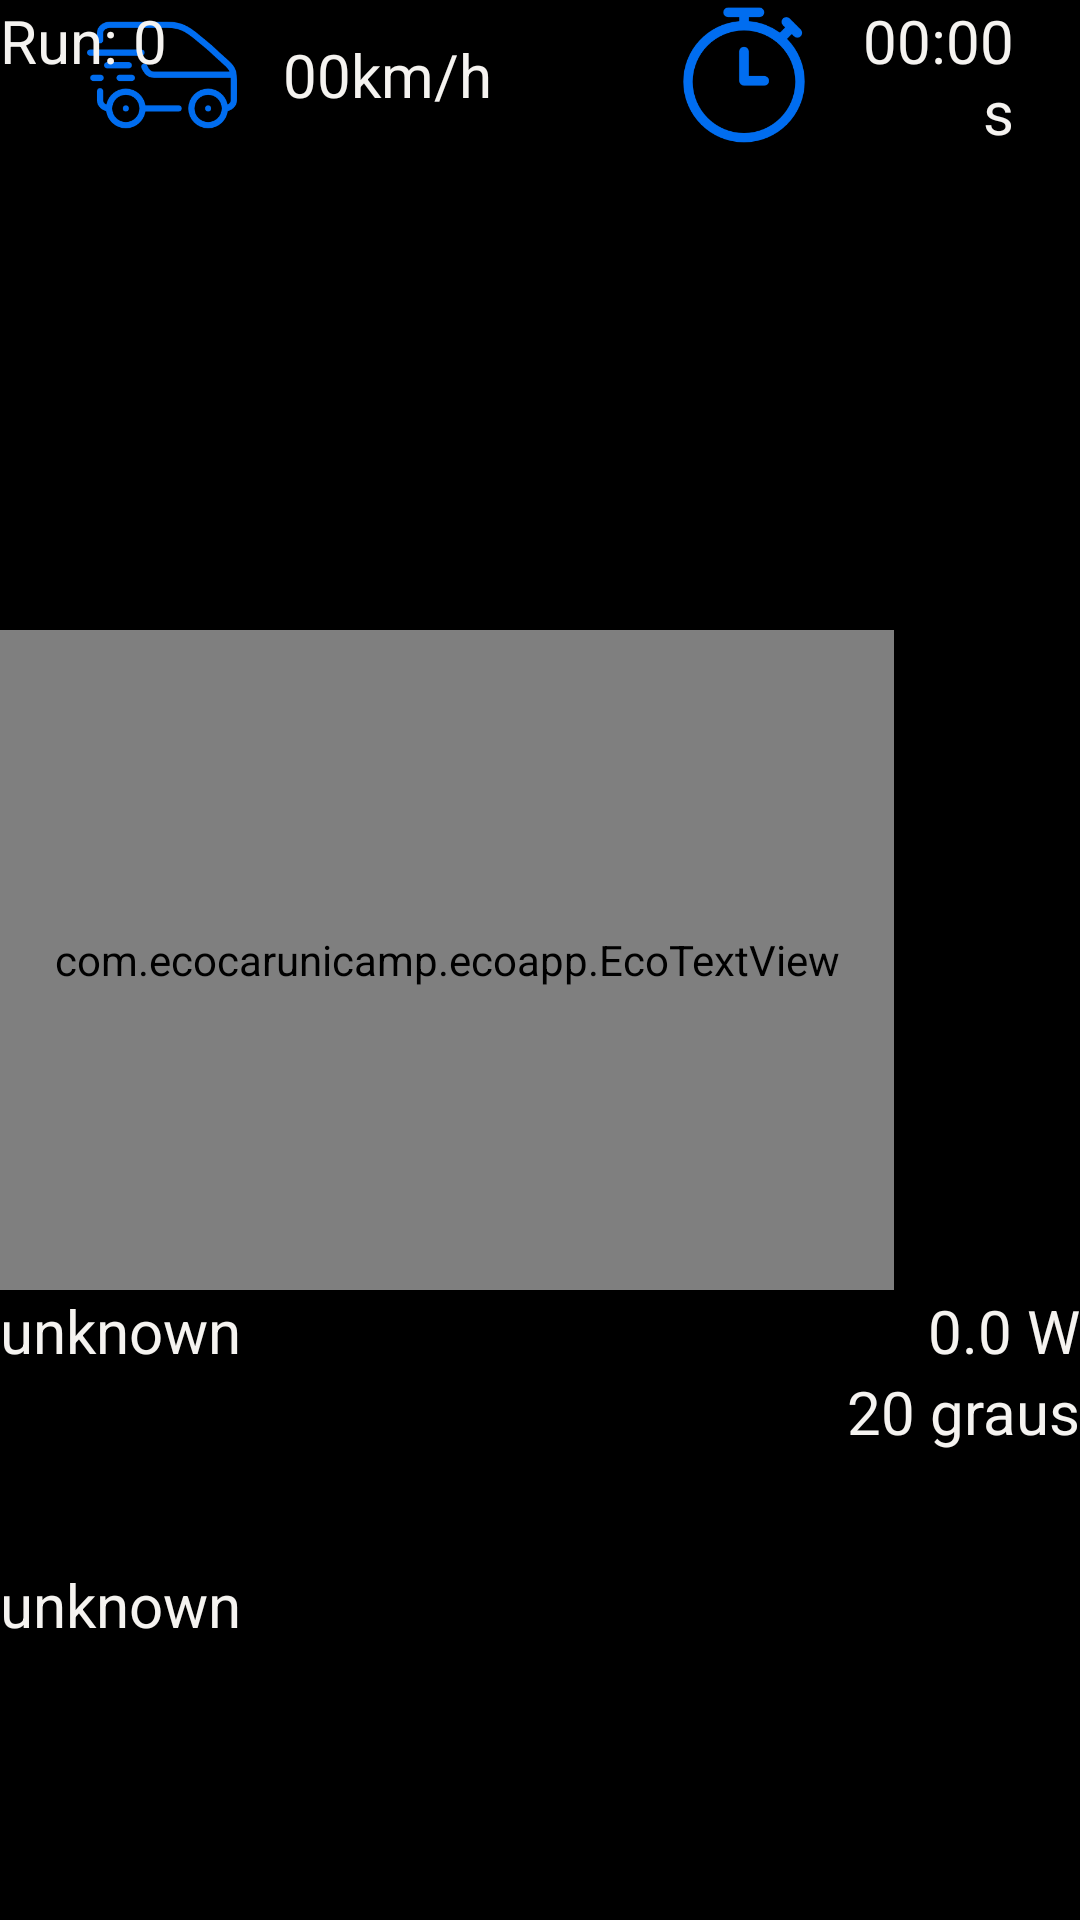

Where icons sit on this 1080×1920 app screen, as (x1, y1, x2, y2):
meanspeed: (87, 20, 237, 129)
timer: (683, 7, 805, 143)
